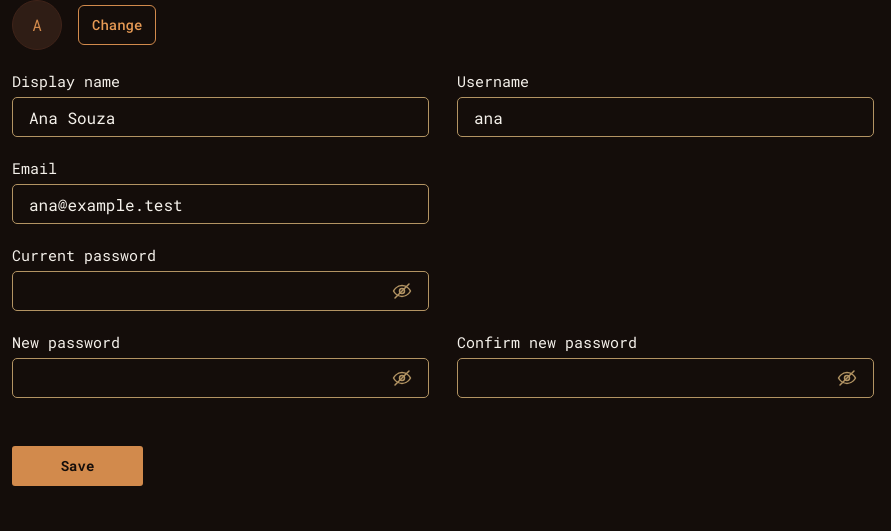
Test: ProfileEditor (en) › conflito de e-mail aparece no campo
Step 1. Replace the text in the field labelled "Email" with "bruno@example.test" → (220, 204), box [29,194,412,214]
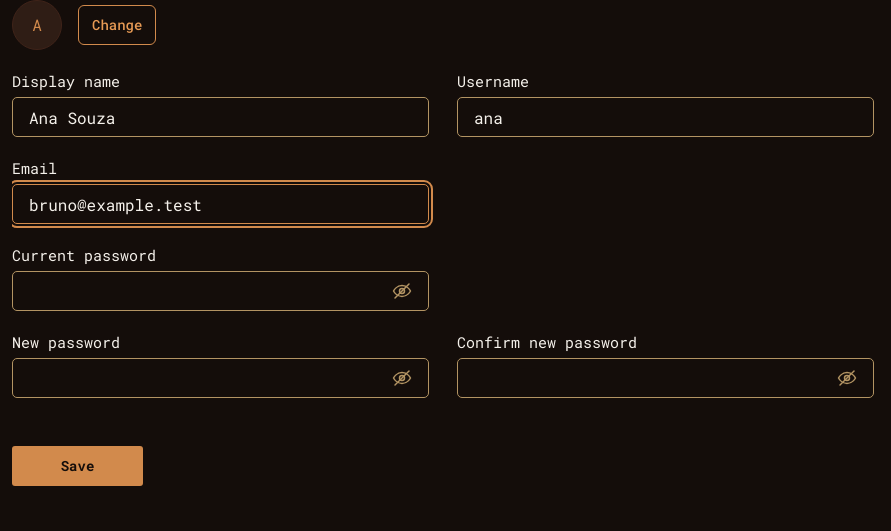
Step 2. Click the button "Save" → (78, 466), box [12,446,143,486]
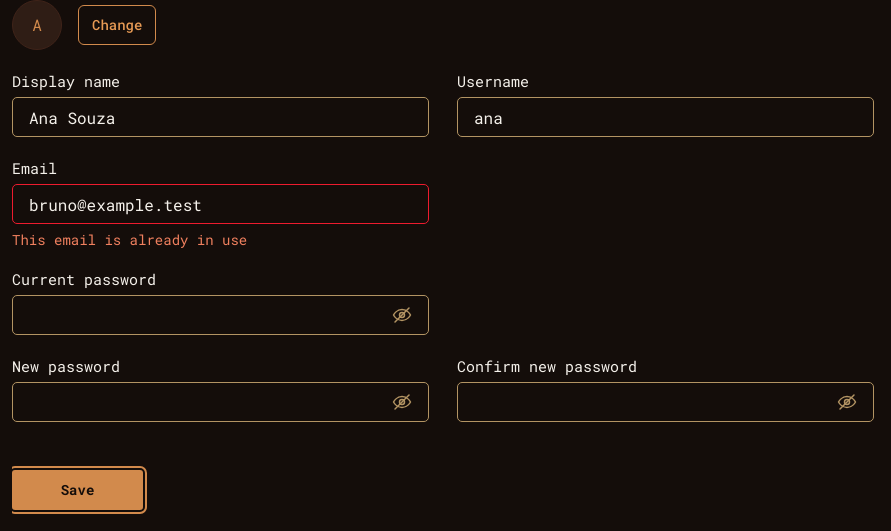
Result: the text "This email is already in use" is shown at [12,230,247,249]
